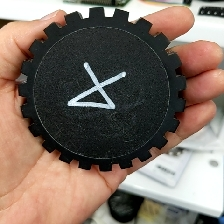gear: (16, 5, 188, 173)
